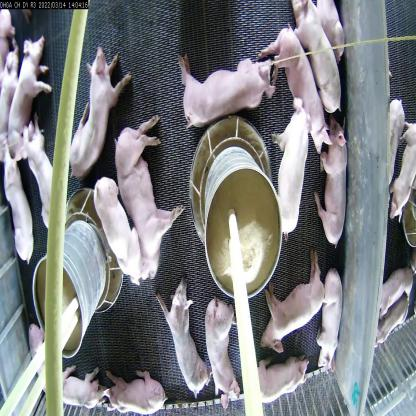Pig: (262, 27, 329, 148), (171, 54, 281, 124), (117, 130, 171, 268), (64, 53, 122, 181), (291, 0, 346, 117), (92, 178, 143, 294), (273, 103, 313, 246), (2, 36, 48, 155), (262, 264, 326, 349), (162, 275, 203, 405), (0, 151, 39, 274), (20, 132, 64, 235), (203, 296, 240, 406), (320, 119, 350, 248), (248, 359, 307, 415), (319, 267, 344, 382), (54, 359, 104, 415), (114, 373, 167, 415)
